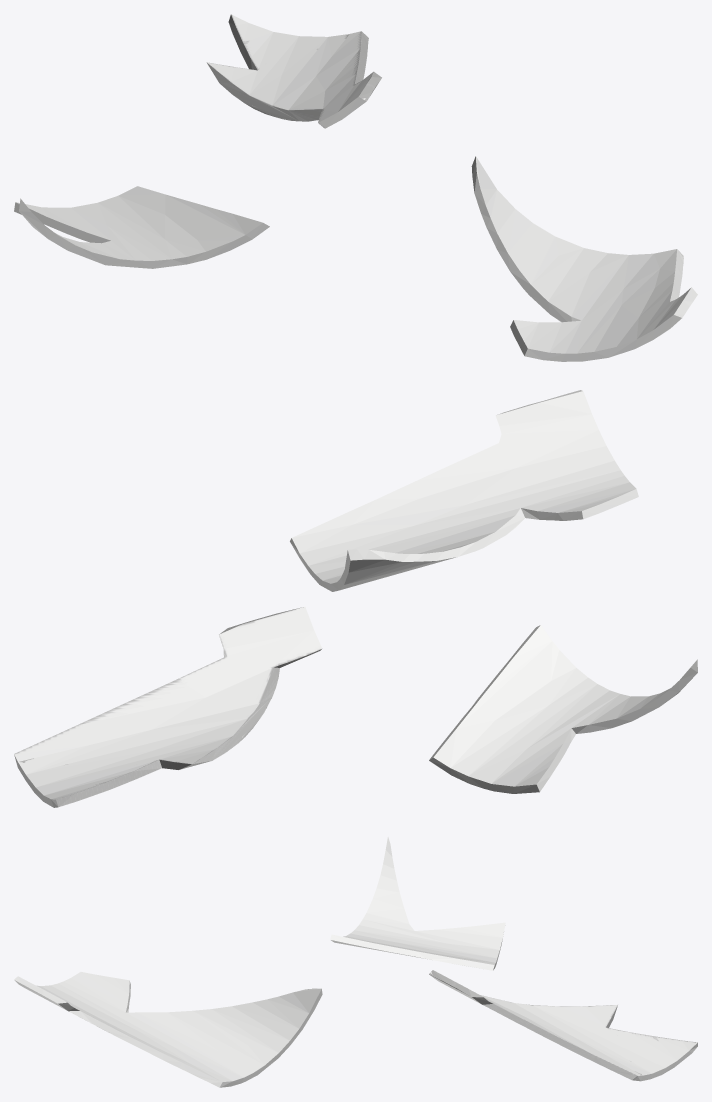
Rendered from scherbenKlein.obj.
The picture shows the model from 3 angles, top to bottom: view 1: azimuth 30°, elevation 25°; view 2: azimuth 150°, elevation 25°; view 3: azimuth 270°, elevation 25°; orthographic projection. The views are drawn at different scales.
Parts seen in each view (by area): view 1: 300586_23_06_15_12_32_27_1, 300586_23_06_15_12_32_27_3, 300586_23_06_15_12_32_27_2; view 2: 300586_23_06_15_12_32_27_1, 300586_23_06_15_12_32_27_2, 300586_23_06_15_12_32_27_3; view 3: 300586_23_06_15_12_32_27_1, 300586_23_06_15_12_32_27_2, 300586_23_06_15_12_32_27_3.
Part boxes in pixels (x1,y1,x2,y2): 300586_23_06_15_12_32_27_1: [471, 156, 697, 361]; 300586_23_06_15_12_32_27_3: [14, 186, 269, 268]; 300586_23_06_15_12_32_27_2: [206, 14, 381, 128]; 300586_23_06_15_12_32_27_1: [290, 390, 638, 591]; 300586_23_06_15_12_32_27_2: [14, 607, 322, 807]; 300586_23_06_15_12_32_27_3: [429, 625, 697, 793]; 300586_23_06_15_12_32_27_1: [14, 972, 322, 1087]; 300586_23_06_15_12_32_27_2: [429, 970, 697, 1081]; 300586_23_06_15_12_32_27_3: [330, 837, 505, 970].
Bounding box in the file's own units: 7.18 × 1.41 × 11.37.
3 materials, 3 textured.
